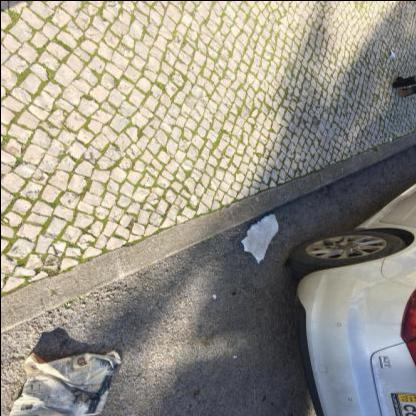Paper: (7, 350, 122, 415)
Styrofoam piece: (240, 213, 278, 263), (212, 294, 216, 299)
Unlabeled litter: (388, 47, 394, 57)
